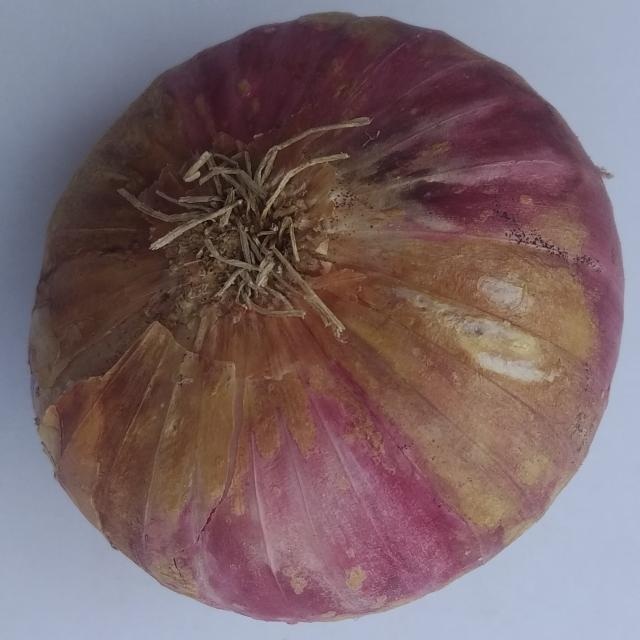onion: (25, 12, 628, 626)
